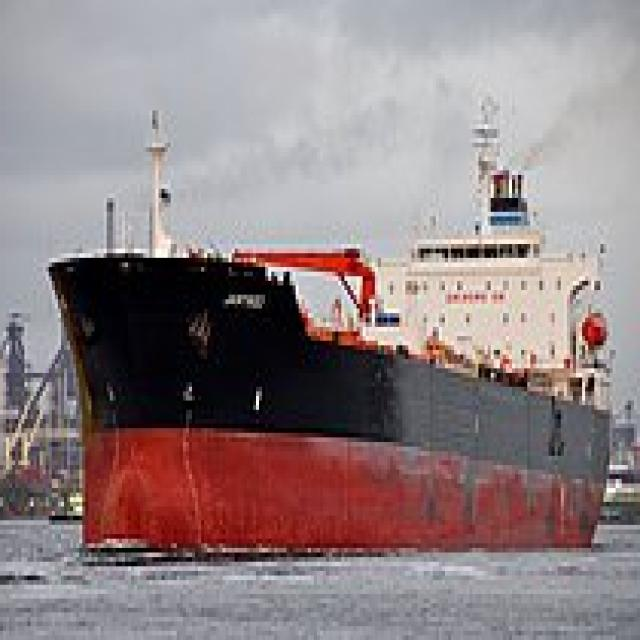Tanker: (49, 87, 618, 548)
